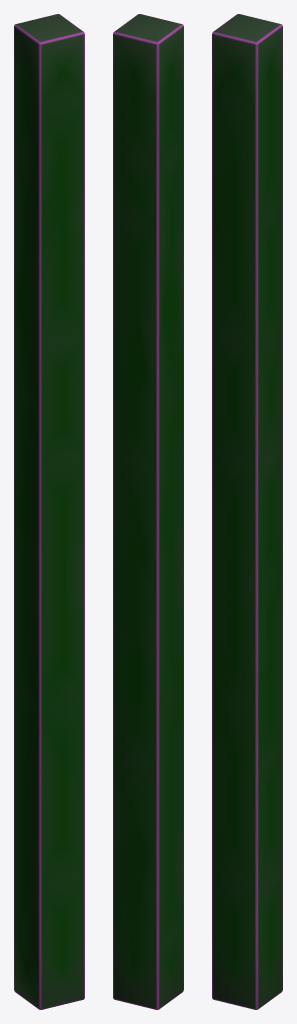
File: standing_pillar_bot_01.fbx
The picture shows the model from 3 angles, left to right: view 1: azimuth 30°, elevation 25°; view 2: azimuth 150°, elevation 25°; view 3: azimuth 330°, elevation 25°; orthographic projection.
Visible parts, largest first — view 1: standing_pillar_bot_01; view 2: standing_pillar_bot_01; view 3: standing_pillar_bot_01.
Boxes of the visible parts, <box> form: standing_pillar_bot_01: <box>14,14,84,1009</box>; standing_pillar_bot_01: <box>113,14,183,1009</box>; standing_pillar_bot_01: <box>212,14,282,1009</box>.
Size of the model in its own units: 0.1 by 2 by 0.1.
